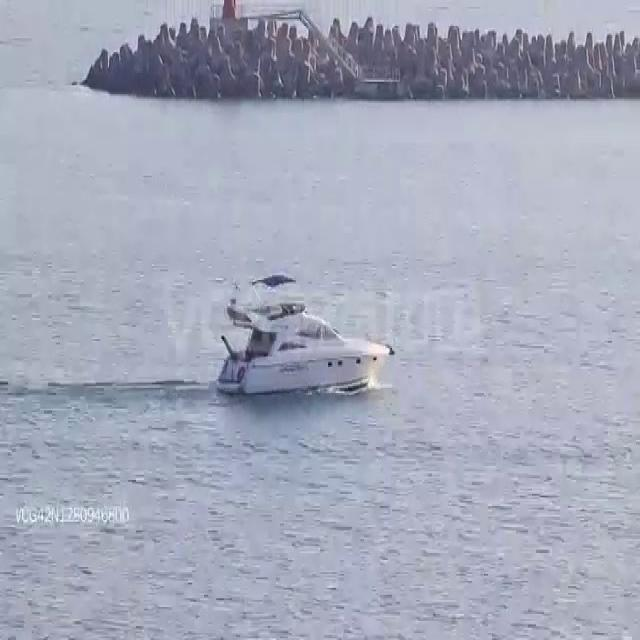houseboat: (212, 268, 396, 402)
